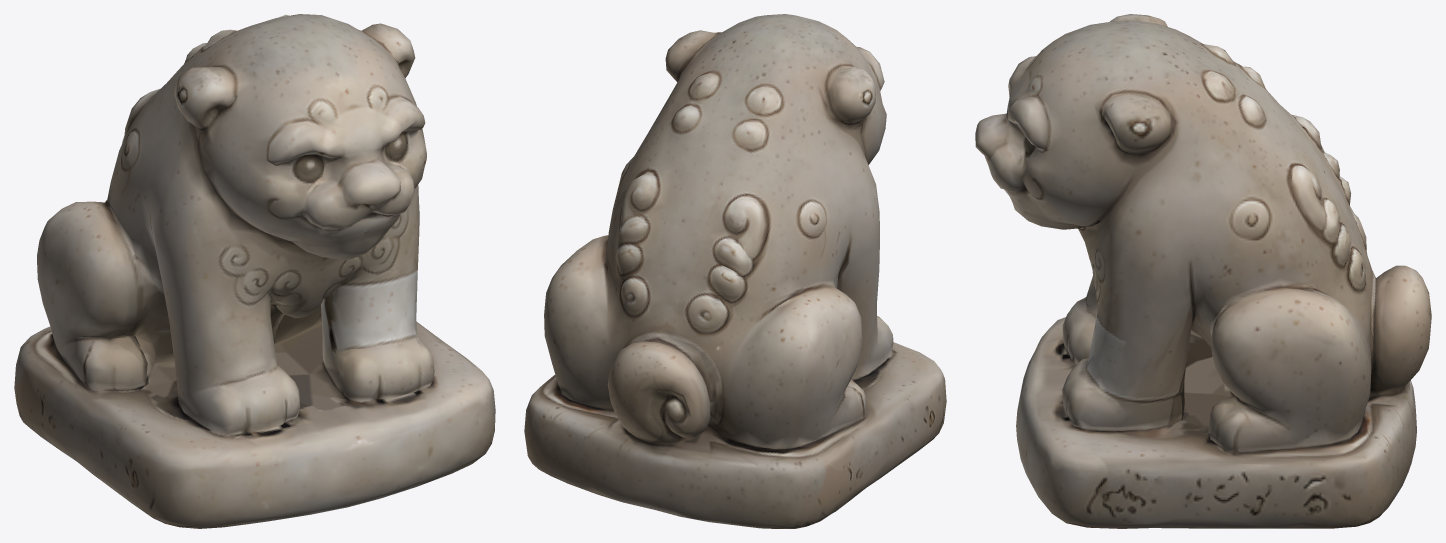
The model's file is 6_hatch.glb.
3 views of the same model, side by side, from view 1: azimuth 30°, elevation 25°; view 2: azimuth 150°, elevation 25°; view 3: azimuth 270°, elevation 25° (orthographic). The views are drawn at different scales.
Visible parts, largest first — view 1: input; view 2: input; view 3: input.
Part boxes in pixels (left/top/right/bottom): input: left=14, top=14, right=495, bottom=528; input: left=524, top=14, right=946, bottom=528; input: left=975, top=14, right=1431, bottom=528.
Bounding box in the file's own units: 0.8129 × 0.9985 × 0.9756.
Materials: 1 (1 with a texture image).
